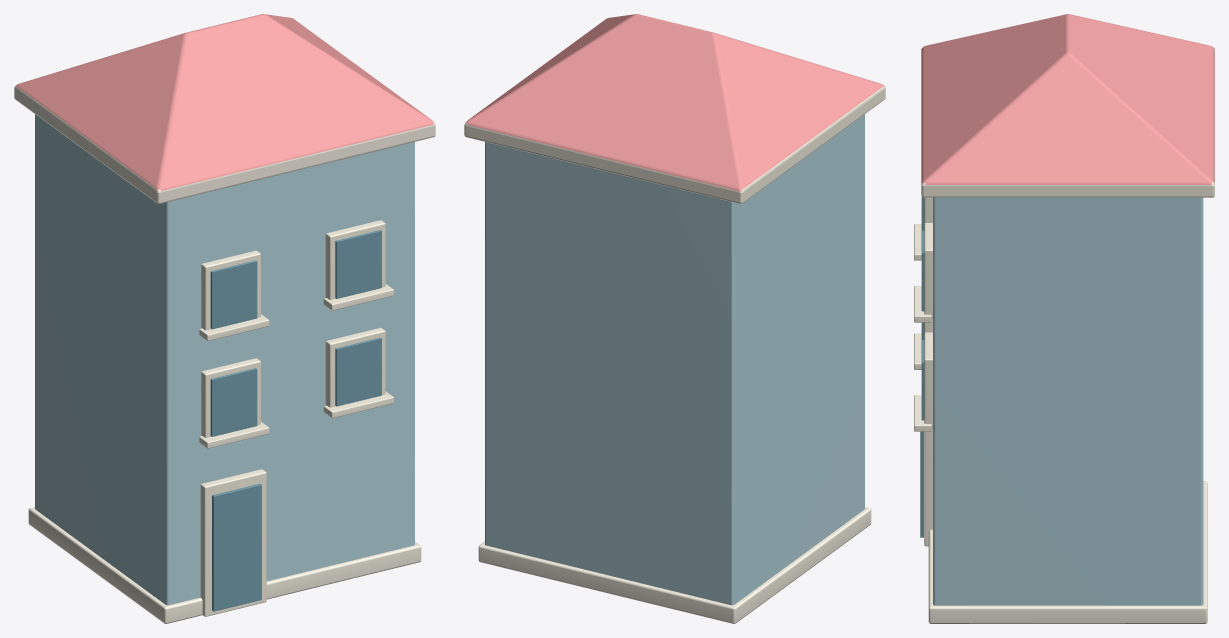
Rendered from BlueTownhouse.fbx.
3 views of the same model, side by side, from view 1: azimuth 30°, elevation 25°; view 2: azimuth 150°, elevation 25°; view 3: azimuth 270°, elevation 25° (orthographic).
Visible parts, largest first — view 1: Walls, Roof, BaseTrim, Door, DoorFrame, UpperWindow_0_0_Glass, UpperWindow_1_0_Glass, UpperWindow_0_1_Glass, UpperWindow_1_1_Glass, UpperWindow_0_1_Frame, UpperWindow_1_1_Frame, UpperWindow_1_0_Frame (+5 smaller); view 2: Walls, Roof, BaseTrim; view 3: Walls, Roof, BaseTrim, DoorFrame, UpperWindow_0_1_Frame, UpperWindow_1_1_Frame, Door.
Part boxes in pixels (<box>): Walls: <box>35,114,414,605</box>; Roof: <box>14,14,435,203</box>; BaseTrim: <box>28,507,421,623</box>; Door: <box>212,483,261,611</box>; DoorFrame: <box>200,469,266,616</box>; UpperWindow_0_0_Glass: <box>210,368,257,436</box>; UpperWindow_1_0_Glass: <box>210,260,257,329</box>; UpperWindow_0_1_Glass: <box>335,337,381,406</box>; UpperWindow_1_1_Glass: <box>335,230,381,298</box>; UpperWindow_0_1_Frame: <box>325,327,385,407</box>; UpperWindow_1_1_Frame: <box>325,220,385,299</box>; UpperWindow_1_0_Frame: <box>201,250,260,330</box>; Walls: <box>485,114,864,605</box>; Roof: <box>464,14,885,203</box>; BaseTrim: <box>478,507,871,623</box>; Walls: <box>933,197,1203,605</box>; Roof: <box>921,14,1214,197</box>; BaseTrim: <box>928,481,1207,623</box>; DoorFrame: <box>924,428,932,546</box>; UpperWindow_0_1_Frame: <box>924,332,932,428</box>; UpperWindow_1_1_Frame: <box>924,223,932,318</box>; Door: <box>920,431,923,537</box>.
Bounding box in the file's own units: 4.47 × 7.97 × 4.12.
